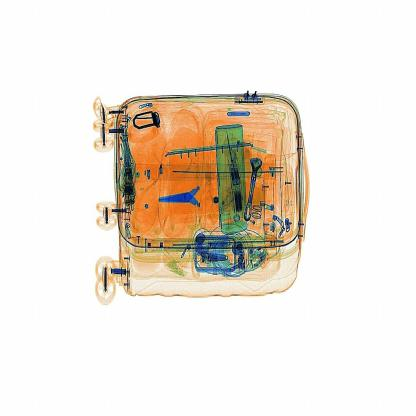gun: (157, 167, 226, 219)
